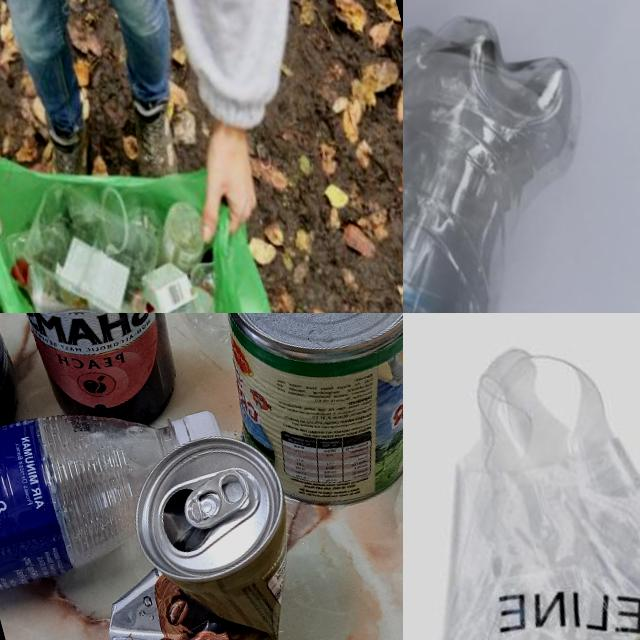aba de lata: (178, 464, 256, 534)
garrafa de vidro: (0, 313, 202, 447)
garrafa plástica: (403, 0, 640, 313), (0, 369, 243, 591)
lata: (67, 420, 328, 640), (191, 313, 403, 520)
sacola plástica: (0, 85, 350, 313), (403, 313, 640, 640)
tampa plástica: (170, 404, 219, 446)
